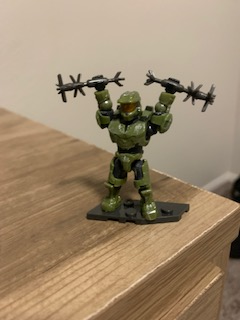chief: (90, 73, 180, 221)
spartan: (88, 71, 178, 219)
up: (90, 73, 179, 150)
